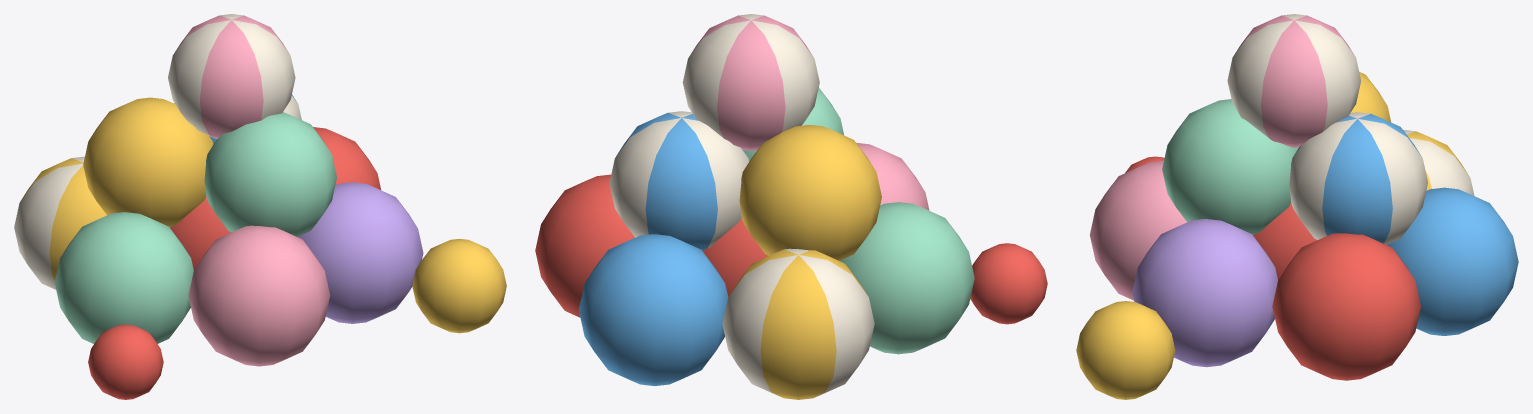
Rendered from prop_ball_pile.glb.
3 renders of one model, left to right at view 1: azimuth 30°, elevation 25°; view 2: azimuth 150°, elevation 25°; view 3: azimuth 270°, elevation 25°, orthographic. The views are drawn at different scales.
Visible parts, largest first — view 1: prop_ball_pile; view 2: prop_ball_pile; view 3: prop_ball_pile.
Boxes of the visible parts, box(x1,y1,x2,y2) form: prop_ball_pile: box(14, 14, 506, 399); prop_ball_pile: box(535, 14, 1047, 399); prop_ball_pile: box(1076, 14, 1518, 399).
Bounding box in the file's own units: 0.96 × 0.6675 × 0.8928.
